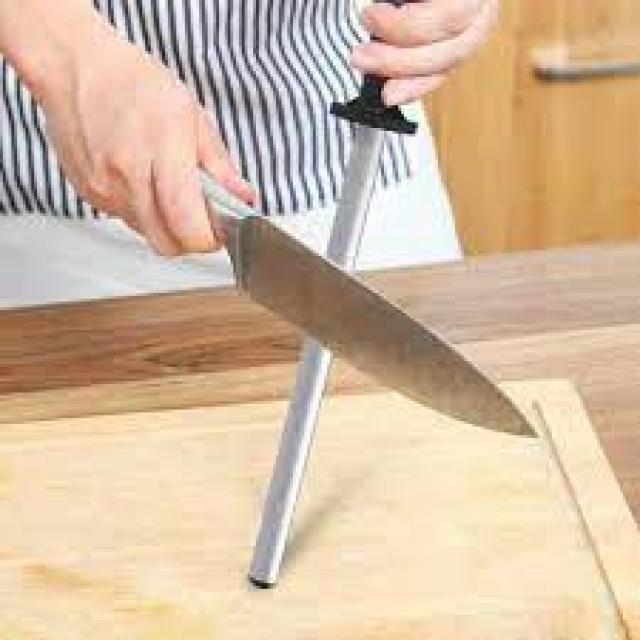Knife: (204, 145, 554, 473)
